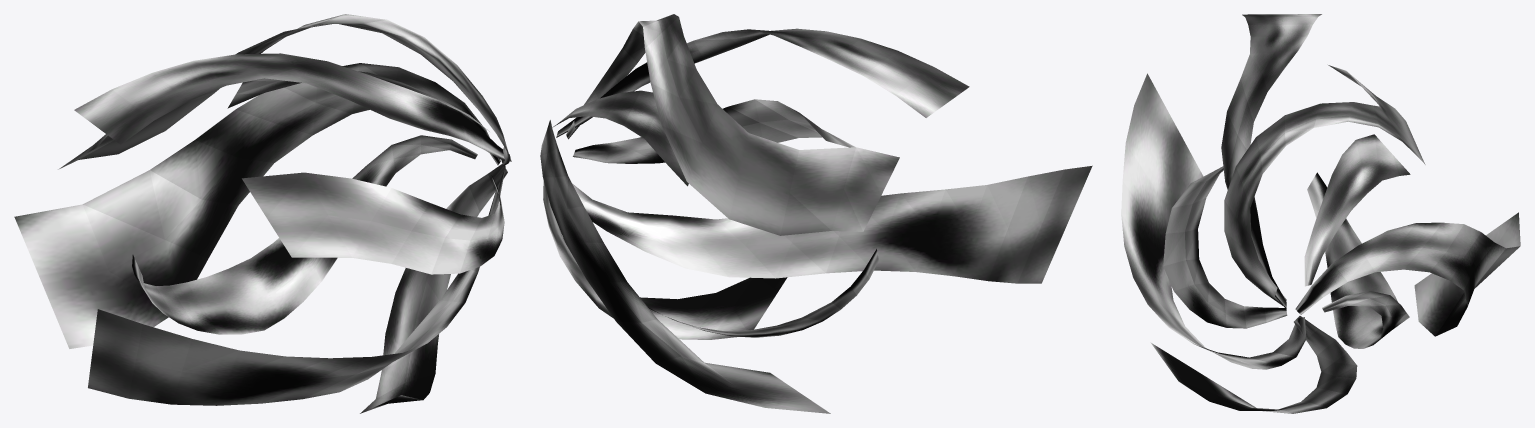
The model's file is Rasengan_RunSmoke.fbx.
The picture shows the model from 3 angles, left to right: view 1: azimuth 30°, elevation 25°; view 2: azimuth 150°, elevation 25°; view 3: azimuth 270°, elevation 25°; orthographic projection. The views are drawn at different scales.
Visible parts, largest first — view 1: SM_WEP_Eff_Rasengan_C_01.mo; view 2: SM_WEP_Eff_Rasengan_C_01.mo; view 3: SM_WEP_Eff_Rasengan_C_01.mo.
Part boxes in pixels (box(x1,y1,x2,y2)): SM_WEP_Eff_Rasengan_C_01.mo: box(14, 14, 511, 413); SM_WEP_Eff_Rasengan_C_01.mo: box(540, 14, 1092, 413); SM_WEP_Eff_Rasengan_C_01.mo: box(1121, 14, 1520, 413).
Size of the model in its own units: 345 by 237 by 277.
